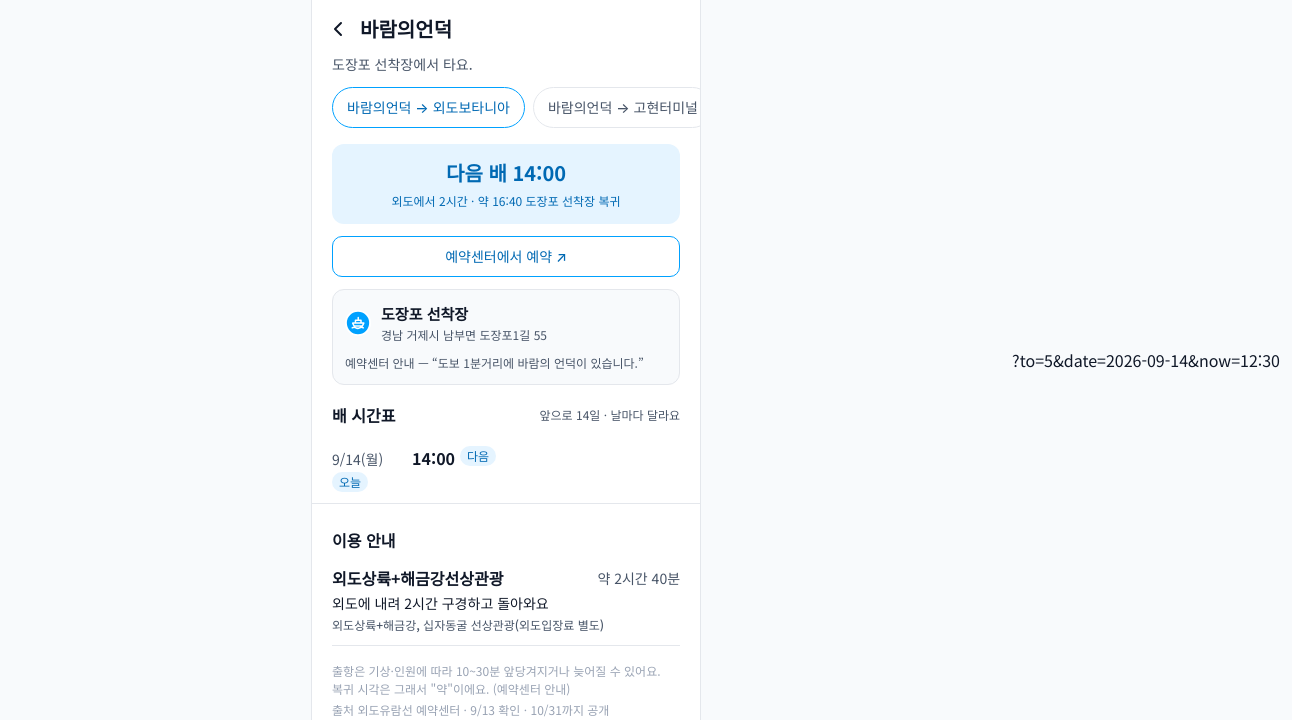
Test: SpotTimetablePage — 칩을 바꾼 직후 › 배 칩에서 버스 칩으로 처음 바꿔도 제목·칩은 그대로 — 버스만 칩 아래에서 불러온다
The width and height of the screenshot is (1292, 720).
Click the button "바람의언덕 → 고현터미널". click: (623, 108)
box: [533, 87, 713, 128]
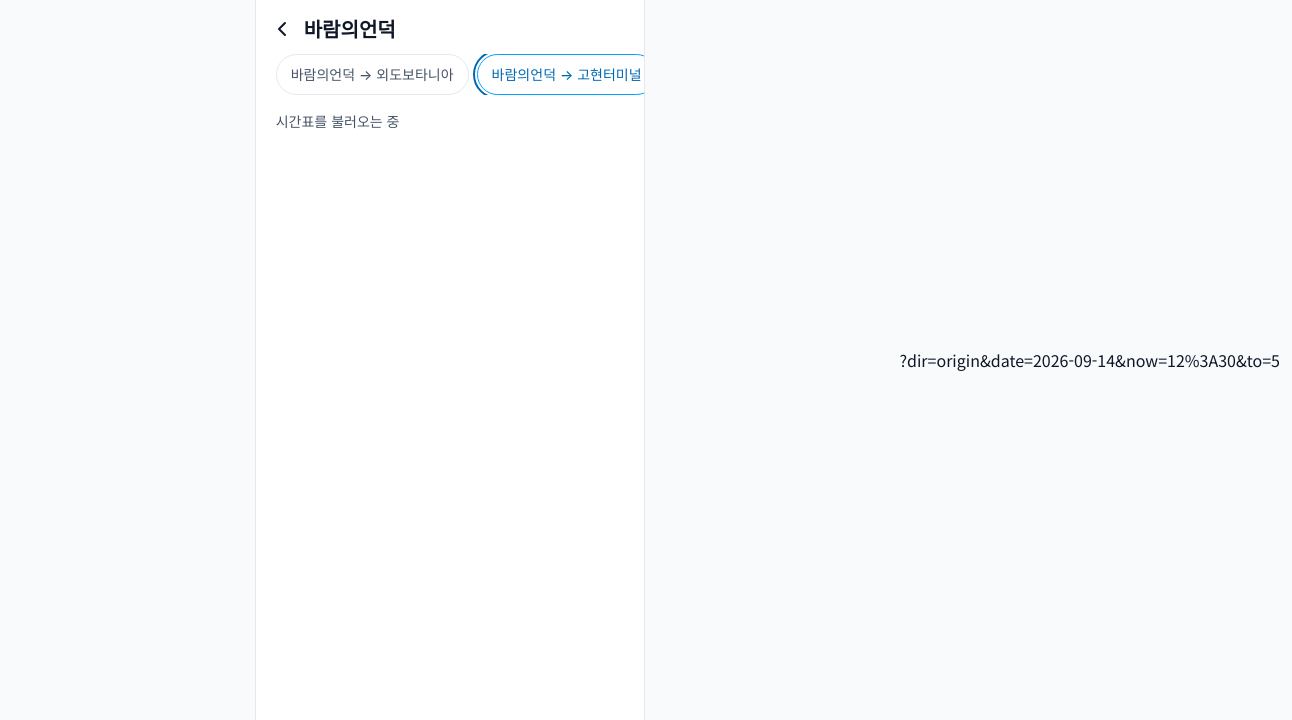
Check: the heading "바람의언덕" is shown, box [304, 14, 396, 43]
Check: the text "시간표를 불러오는 중" is shown, box [276, 111, 400, 131]
Check: the text "도장포 선착장에서 타요." is gone
